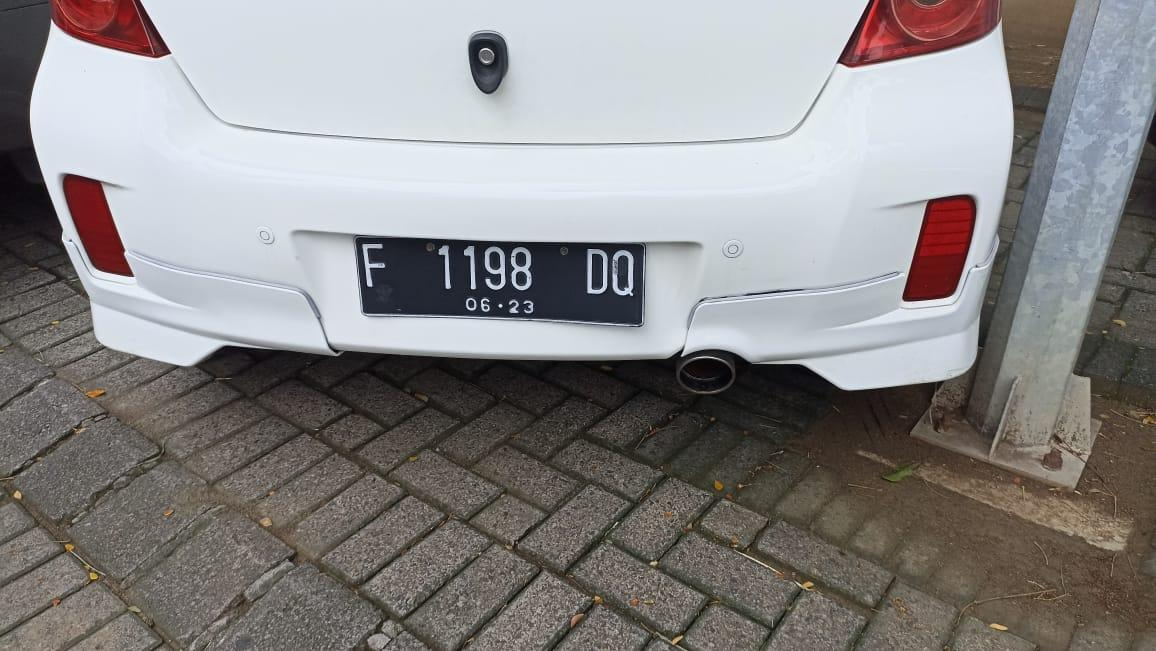plat: (354, 237, 646, 327)
